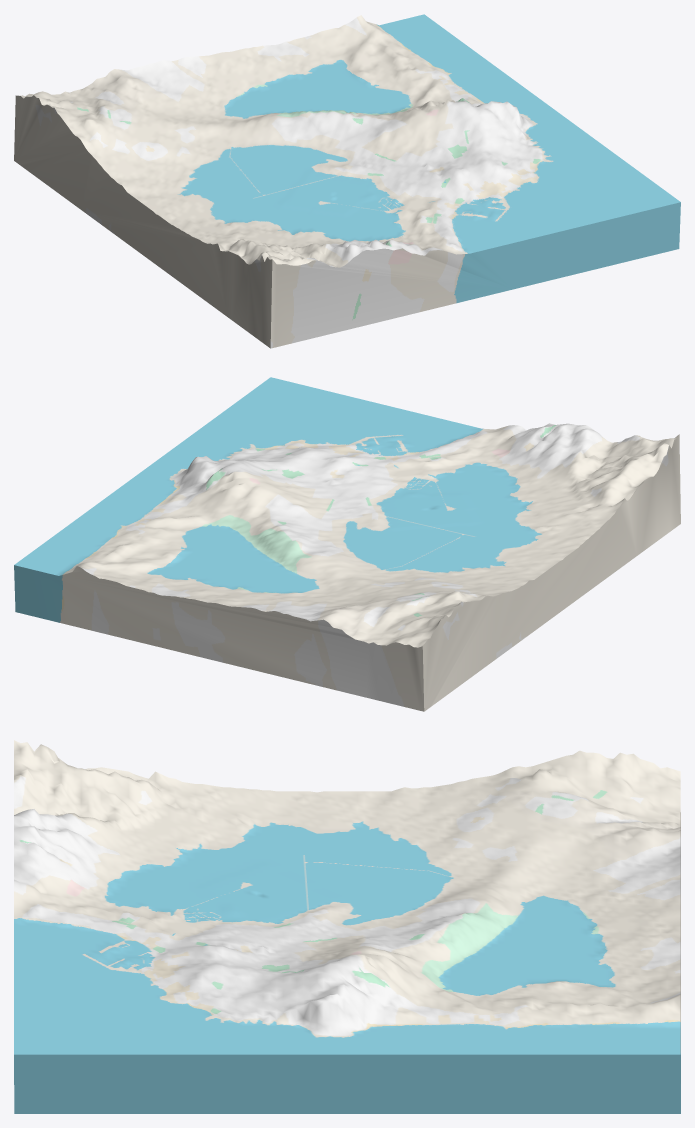
The model's file is laguna_con_textura_y_volumen.glb.
3 renders of one model, top to bottom at view 1: azimuth 30°, elevation 25°; view 2: azimuth 150°, elevation 25°; view 3: azimuth 270°, elevation 25°, orthographic. The views are drawn at different scales.
Visible parts, largest first — view 1: Terrain_DEM_tile.005; view 2: Terrain_DEM_tile.005; view 3: Terrain_DEM_tile.005.
Boxes of the visible parts, x1,y1,x2,y2 form: Terrain_DEM_tile.005: (14, 14, 680, 348); Terrain_DEM_tile.005: (14, 377, 680, 711); Terrain_DEM_tile.005: (14, 740, 680, 1113).
Bounding box in the file's own units: 0.7194 × 0.1495 × 0.7799.
1 material, 1 textured.
